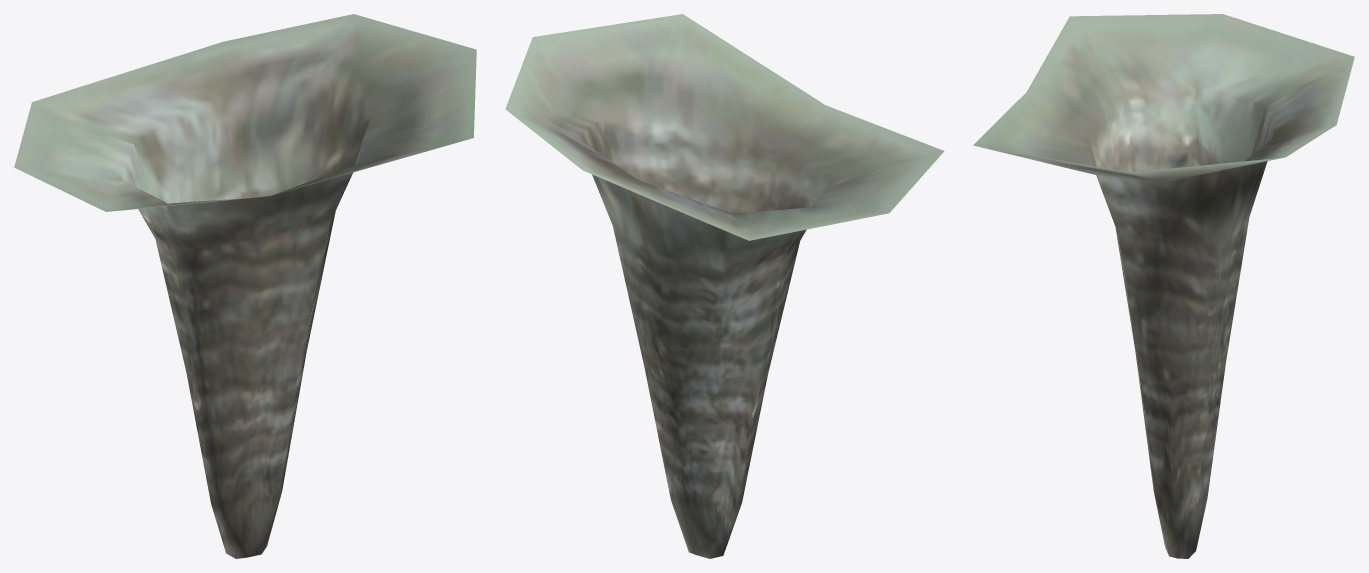
Rendered from TROLLHOLE02_PS-MAINSTALAG63.fbx.
3 renders of one model, left to right at view 1: azimuth 30°, elevation 25°; view 2: azimuth 150°, elevation 25°; view 3: azimuth 270°, elevation 25°, orthographic. The views are drawn at different scales.
Parts seen in each view (by area): view 1: TROLLHOLE02_PS-MAINSTALAG63; view 2: TROLLHOLE02_PS-MAINSTALAG63; view 3: TROLLHOLE02_PS-MAINSTALAG63.
Part boxes in pixels (box(x1,y1,x2,y2)): TROLLHOLE02_PS-MAINSTALAG63: box(14, 14, 476, 558); TROLLHOLE02_PS-MAINSTALAG63: box(505, 14, 944, 558); TROLLHOLE02_PS-MAINSTALAG63: box(973, 14, 1354, 558).
Size of the model in its own units: 18836 by 20519 by 14562.
1 material, 1 textured.
